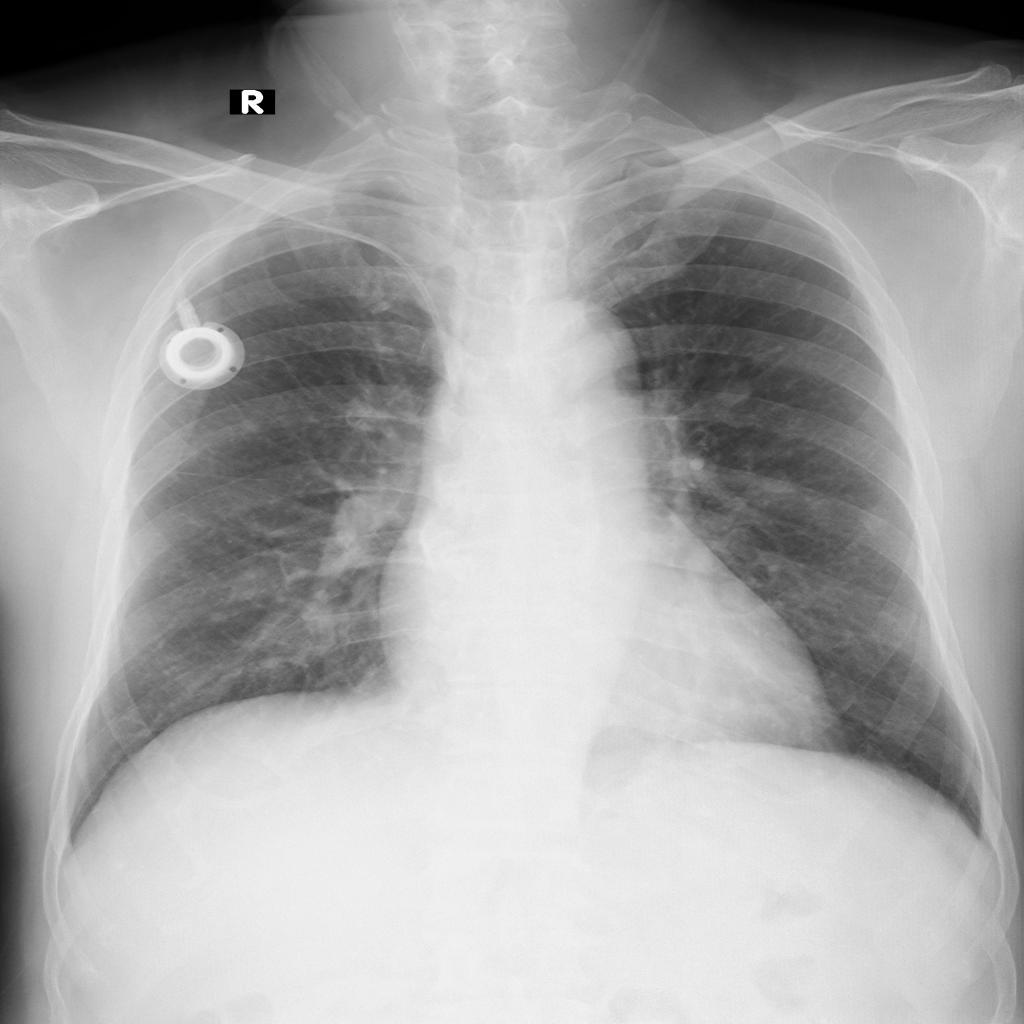Nodule: (716, 581, 752, 610), (858, 508, 891, 538), (723, 468, 758, 490), (240, 421, 258, 434)
